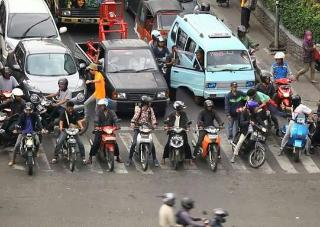mobil: (170, 9, 262, 95), (82, 28, 170, 114), (20, 33, 90, 111), (0, 0, 62, 54), (56, 1, 120, 26), (144, 3, 188, 38)
motor: (237, 104, 269, 166), (18, 96, 40, 182), (136, 92, 158, 178), (98, 93, 120, 171), (63, 102, 83, 178), (170, 99, 188, 176), (202, 100, 220, 175), (287, 100, 309, 160), (272, 44, 292, 108), (237, 23, 261, 58), (0, 60, 14, 90)
